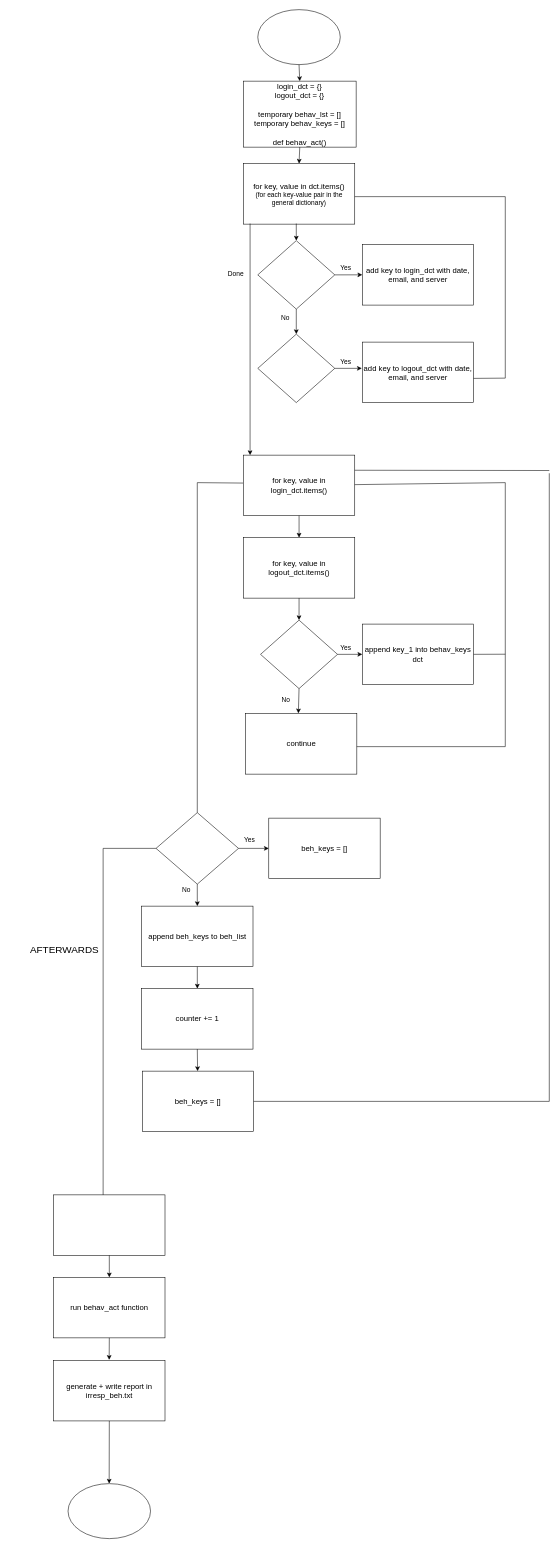
Some shapes in this 559 by 1548 pixel diagram are drawn without their labels. The centre of each missing label's shape, as x and y in pixels:
End: (x=109, y=1511)
for val in beh_list, get dct[val]: (x=109, y=1224)
is value[2] == "login"?: (x=296, y=274)
is value[2] == "logout"?: (x=296, y=368)
length of beh_keys even?: (x=197, y=848)
Start: (x=298, y=37)
value == value_1?: (x=299, y=654)
